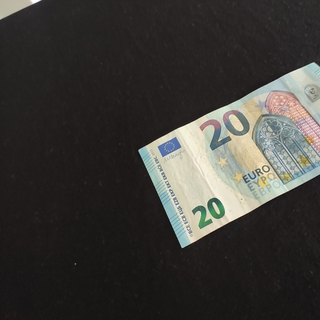20EUROFront: (138, 61, 320, 248)
